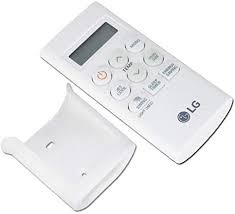remote control: (42, 7, 235, 169)
